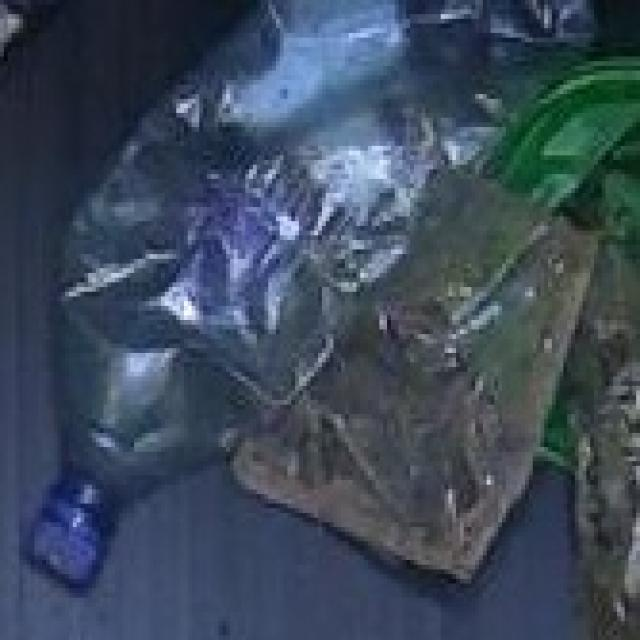plasticbottle: (15, 0, 593, 586)
